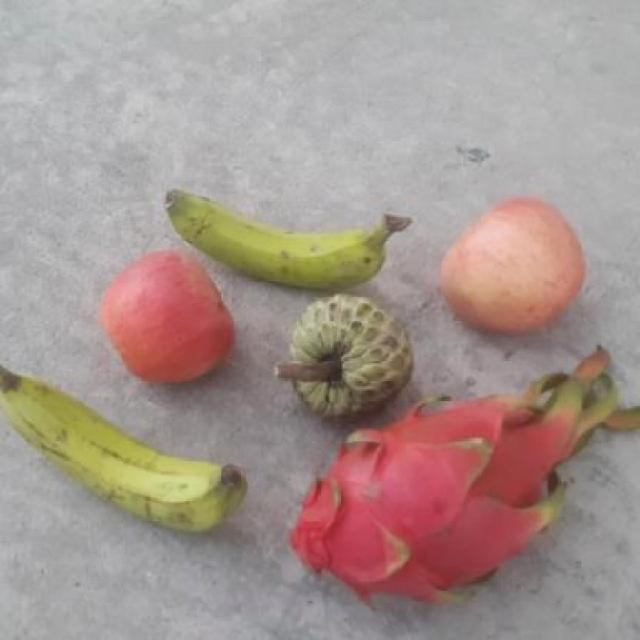apple: (435, 196, 587, 339), (99, 249, 236, 389)
banana: (0, 339, 252, 532), (163, 186, 417, 292)
dragon fruit: (291, 389, 577, 603)
sugar apple: (285, 292, 413, 417)
